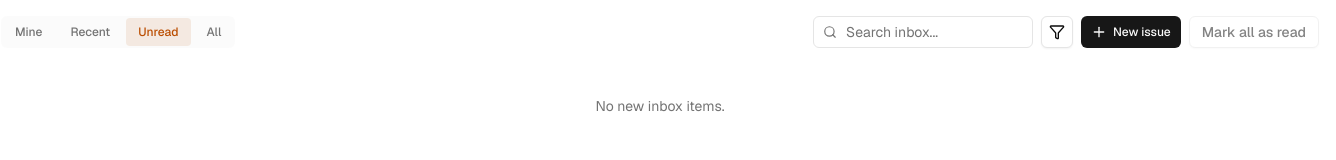
InboxPage › clicking the recent tab swaps the empty-state copy
Click the tab "Recent" at [90, 32], box [58,18,122,46]
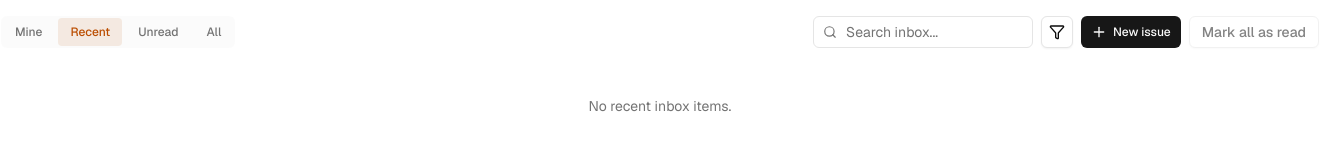
Expected: the text "No recent inbox items." is shown, [589,97,731,115]
